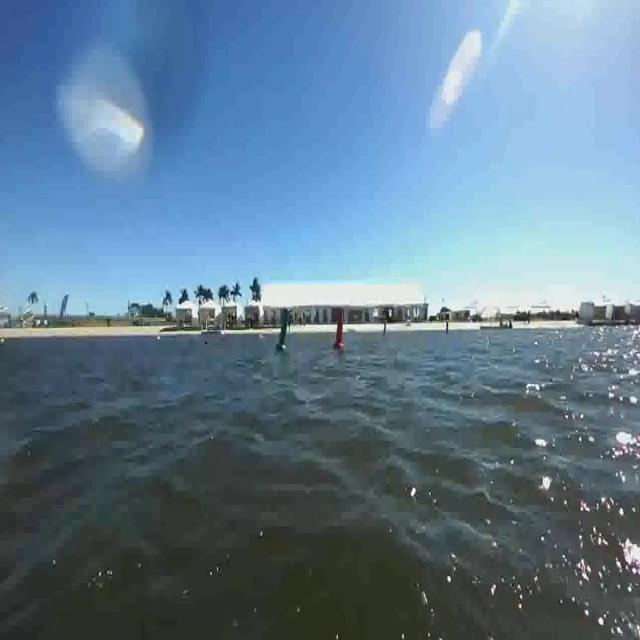green-column-buoy: (276, 308, 292, 353)
red-column-buoy: (334, 312, 348, 351)
